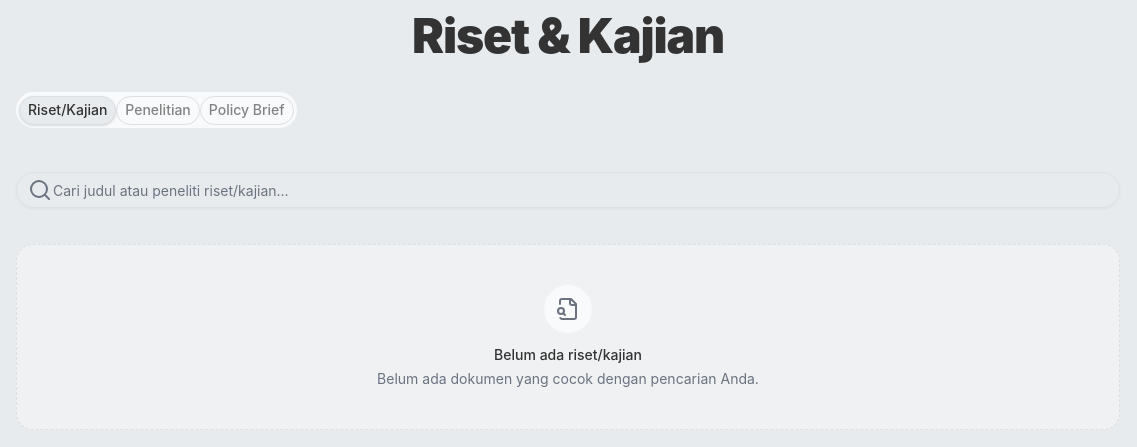
Scenario: RisetListPage › renders Policy Brief tab and queries its panel
Check: the tab "Riset/Kajian" is shown, box [19, 96, 116, 124]
Check: the tab "Penelitian" is shown, box [116, 96, 200, 124]
What coordinates should you click on to do the following:
click the tab "Policy Brief"
I would click on:
 (247, 110)
Its box is [200, 96, 294, 124].
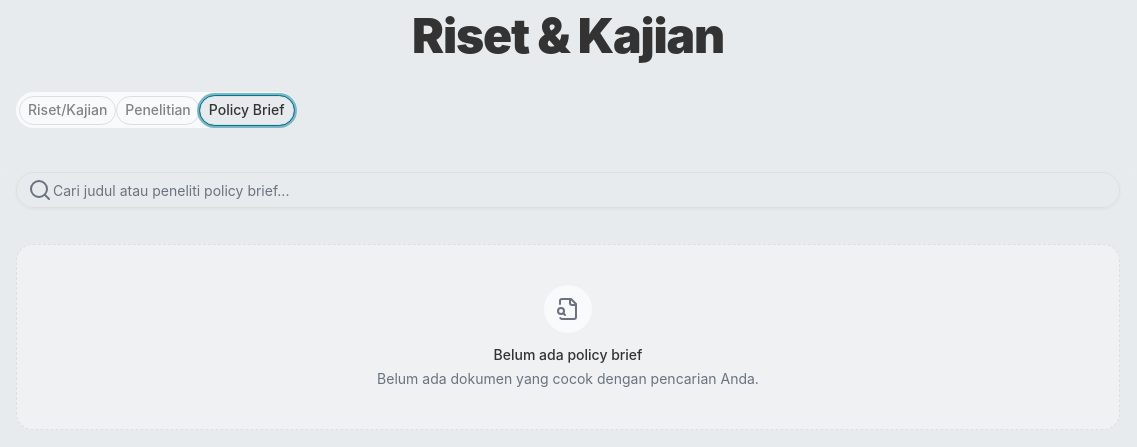
Check: the field named "Cari Policy Brief" is shown, box [16, 172, 1120, 208]
